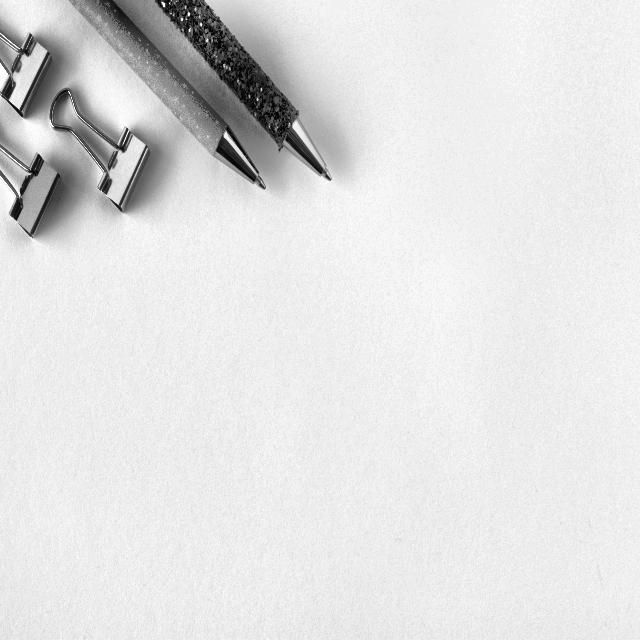Pen: (68, 0, 267, 191), (155, 0, 334, 185)
